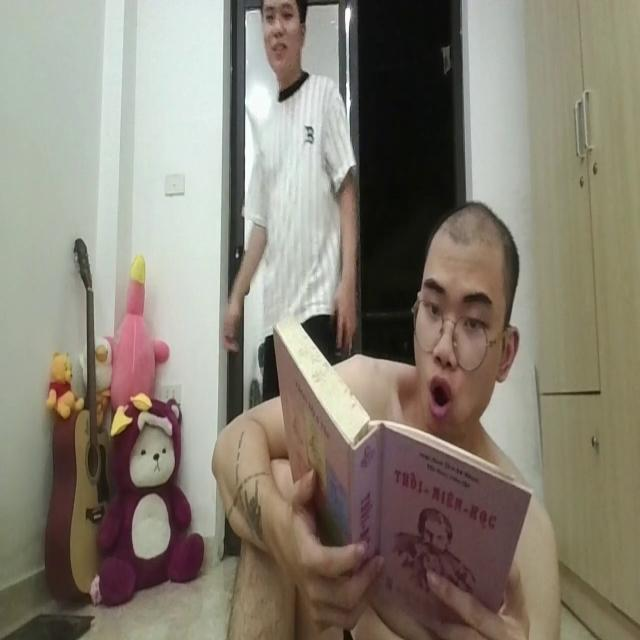book: (257, 312, 536, 636)
extra_person: (206, 0, 374, 392)
student: (220, 206, 556, 640)
